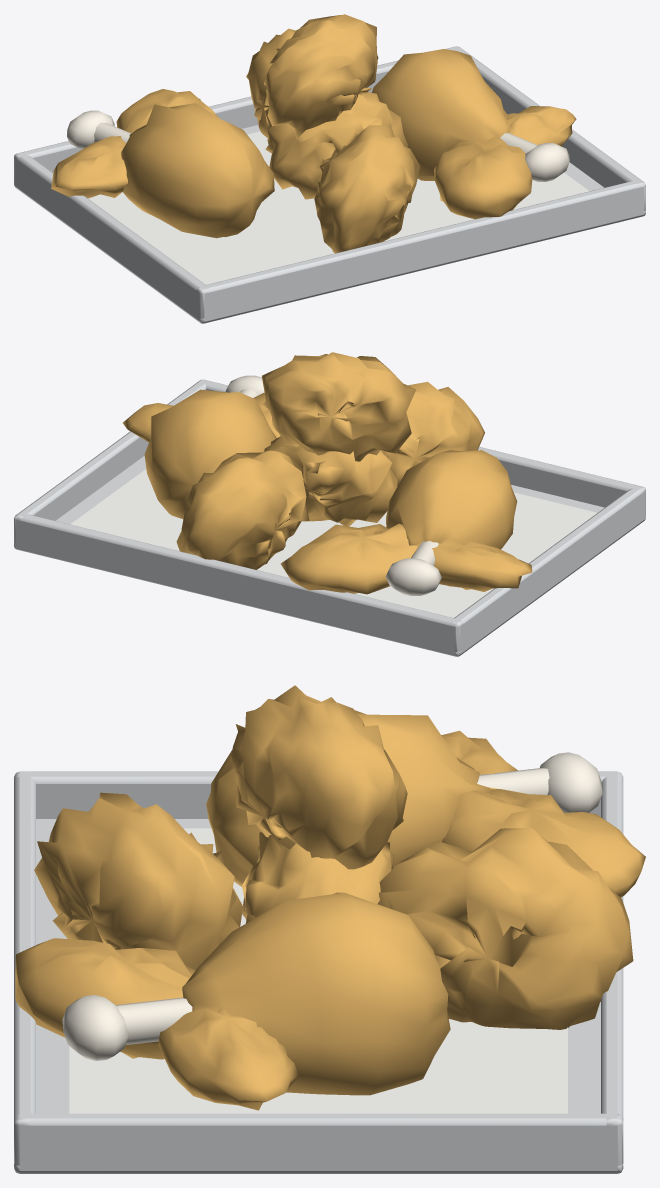
Rendered from Chicken_Fried.fbx.
The picture shows the model from 3 angles, top to bottom: view 1: azimuth 30°, elevation 25°; view 2: azimuth 150°, elevation 25°; view 3: azimuth 270°, elevation 25°; orthographic projection. The views are drawn at different scales.
Parts seen in each view (by area): view 1: Chicken_Fried; view 2: Chicken_Fried; view 3: Chicken_Fried.
Boxes of the visible parts, x1,y1,x2,y2 form: Chicken_Fried: (14, 14, 645, 323); Chicken_Fried: (14, 352, 645, 656); Chicken_Fried: (14, 685, 645, 1173).
Size of the model in its own units: 0.3107 by 0.1219 by 0.2282.
